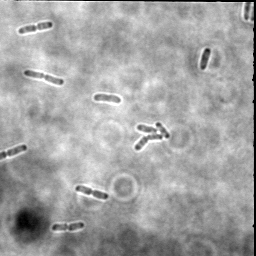Dividing: (22, 69, 65, 86), (133, 132, 163, 151), (75, 184, 109, 200), (17, 20, 53, 35), (1, 143, 28, 162), (51, 220, 85, 232), (92, 92, 122, 105)
Rod: (198, 47, 211, 72), (155, 121, 170, 139), (135, 124, 158, 134)
